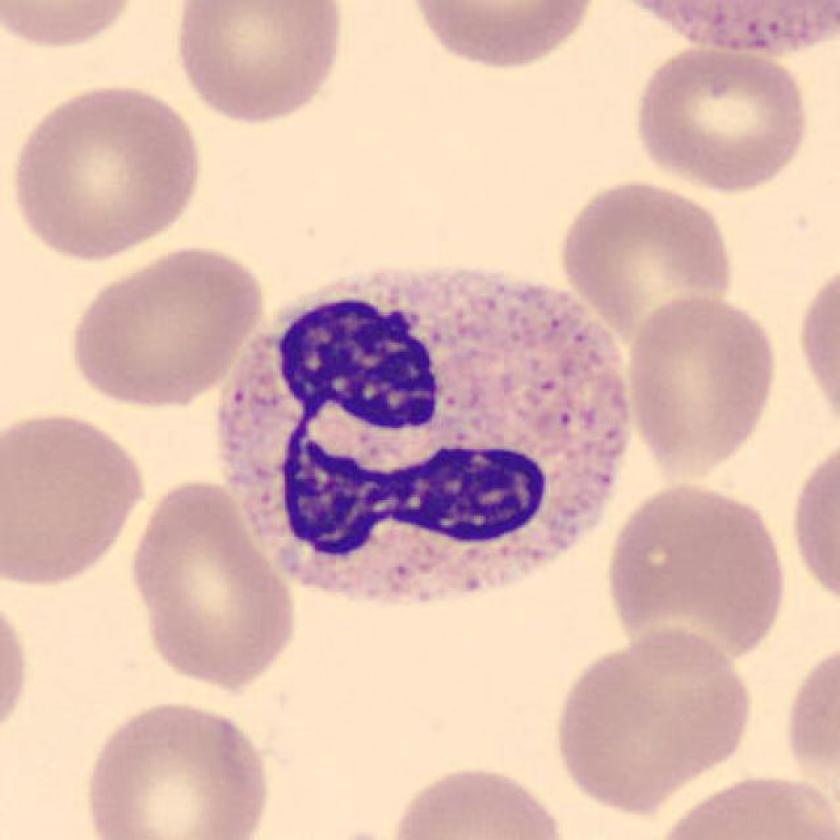neutrophil: (222, 264, 626, 604)
